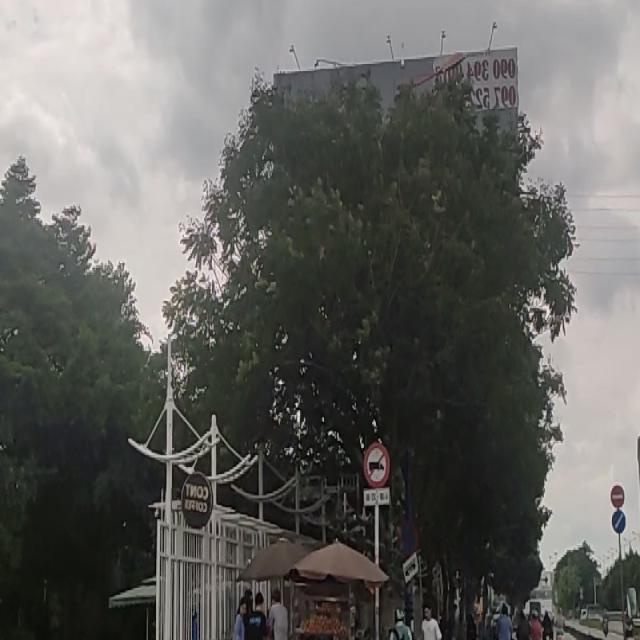B.8a: (365, 445, 389, 507)
I.407a: (610, 484, 624, 508)
R.302a: (611, 510, 625, 535)
